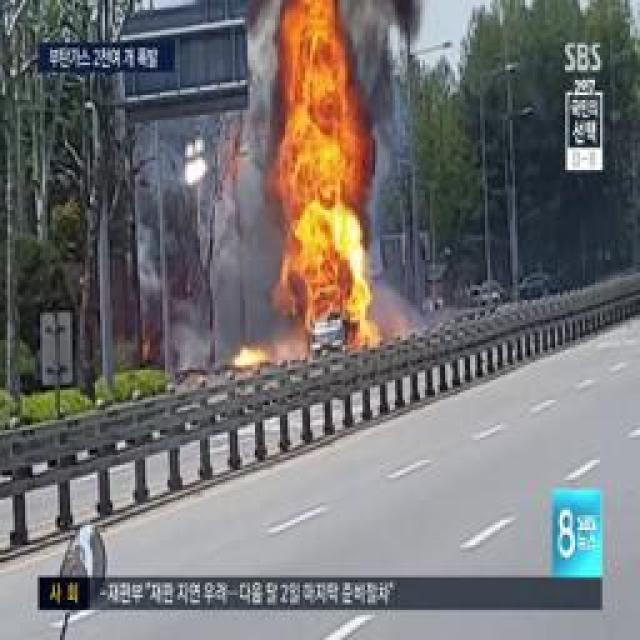Fire: (288, 52, 366, 331), (236, 347, 271, 366)
